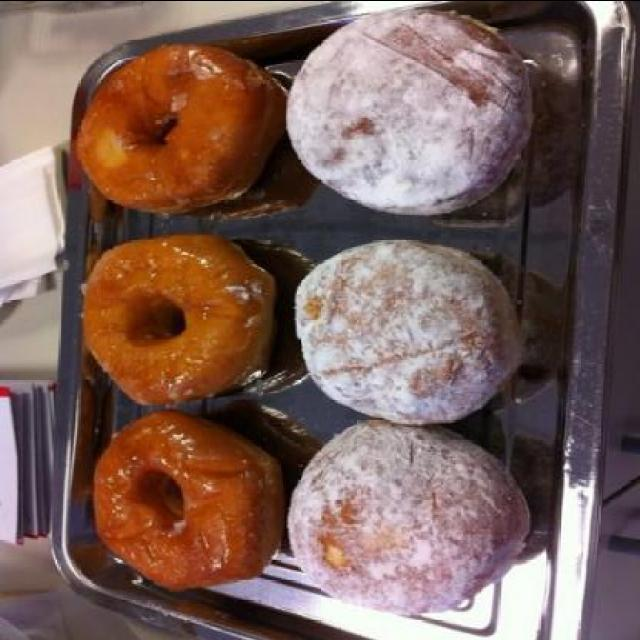Donuts: (76, 5, 540, 612)
